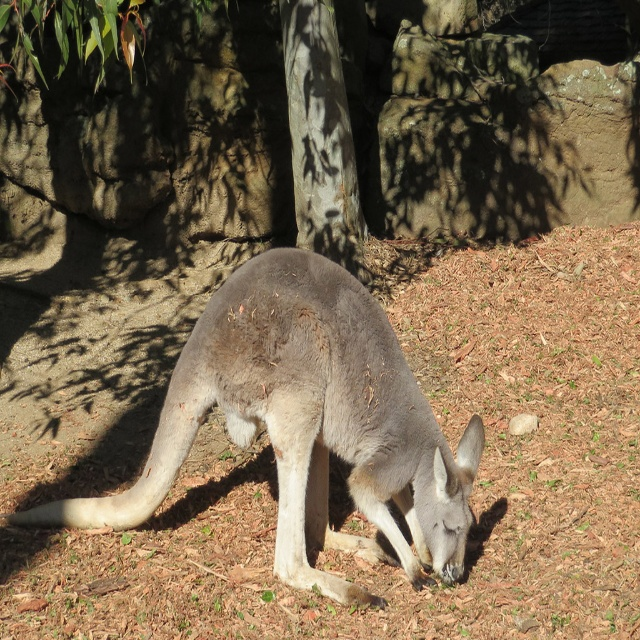Kangaroo: (7, 244, 485, 609)
